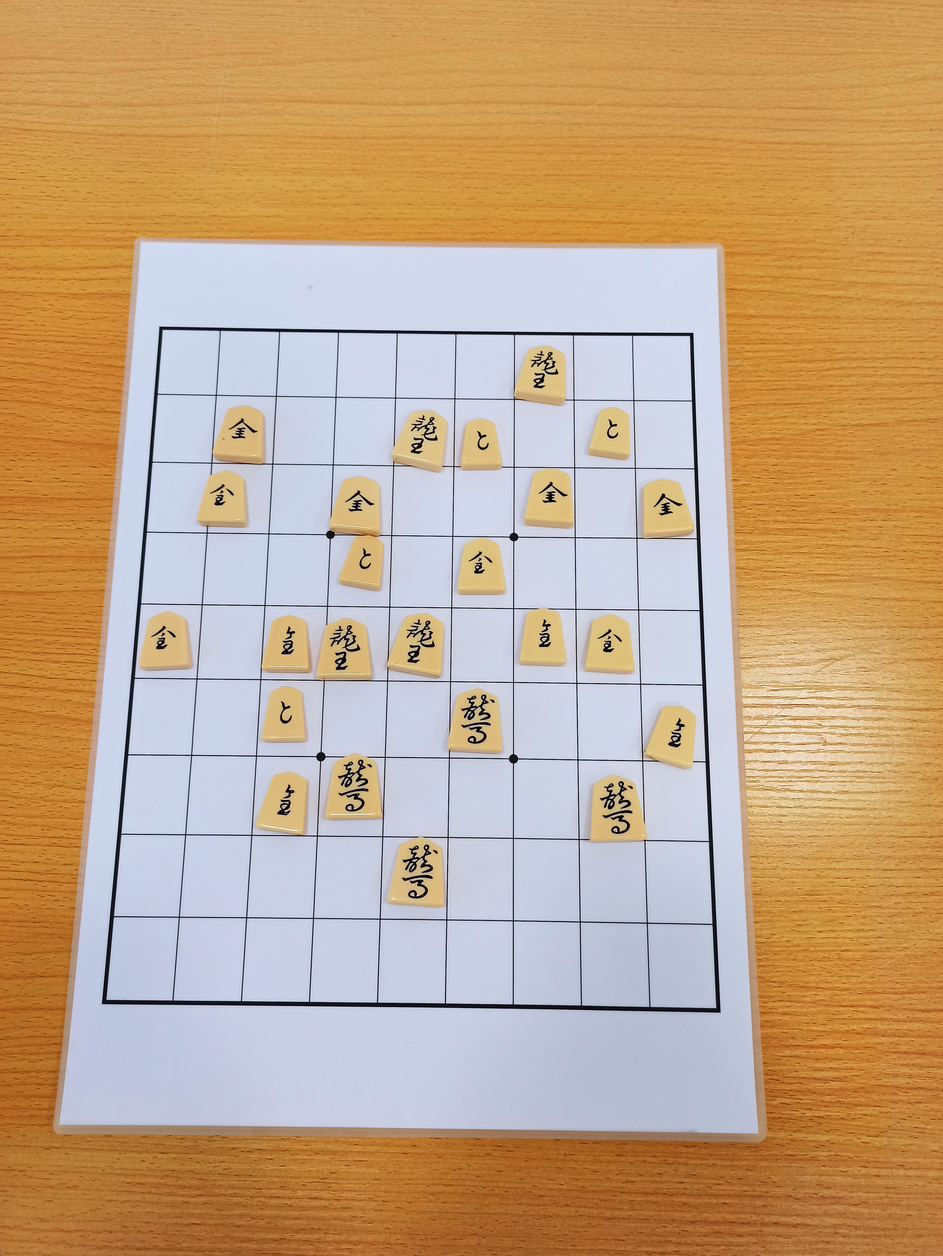board: (105, 327, 719, 1010)
